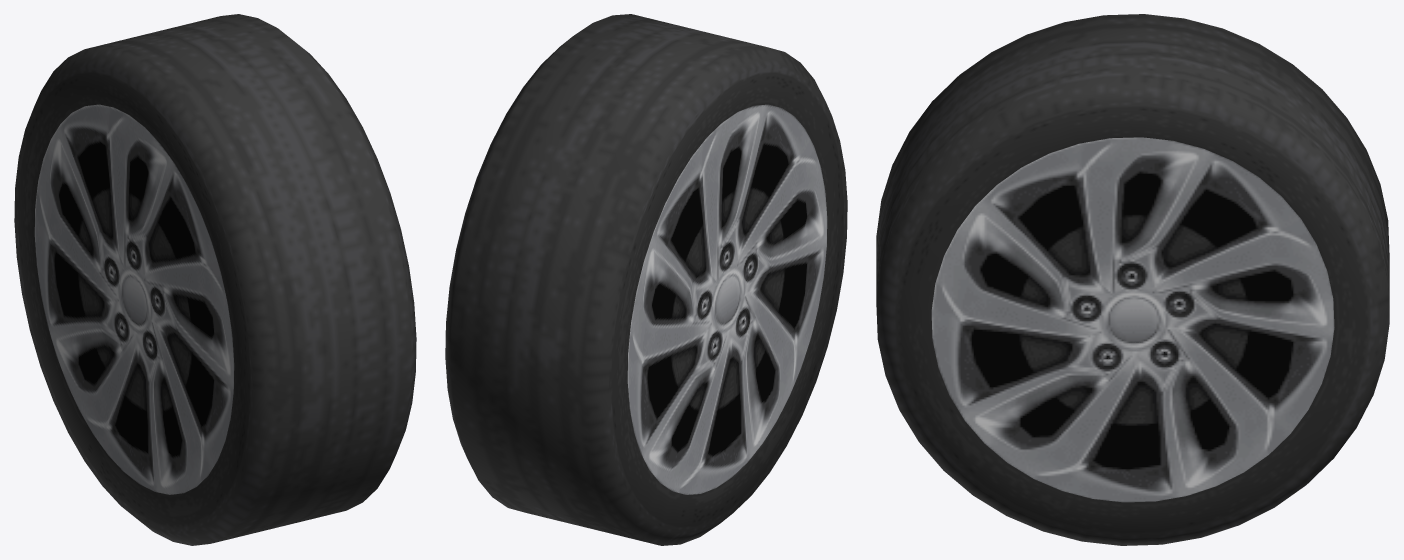
Rendered from wheel.glb.
3 views of the same model, side by side, from view 1: azimuth 30°, elevation 25°; view 2: azimuth 150°, elevation 25°; view 3: azimuth 270°, elevation 25° (orthographic).
Parts seen in each view (by area): view 1: FrontLeftWheel; view 2: FrontLeftWheel; view 3: FrontLeftWheel.
Boxes of the visible parts, box(x1,y1,x2,y2) form: FrontLeftWheel: box(14, 14, 416, 545); FrontLeftWheel: box(445, 14, 847, 545); FrontLeftWheel: box(876, 14, 1389, 545).
Bounding box in the file's own units: 0.1767 × 0.4806 × 0.4806.
1 material, 1 textured.
